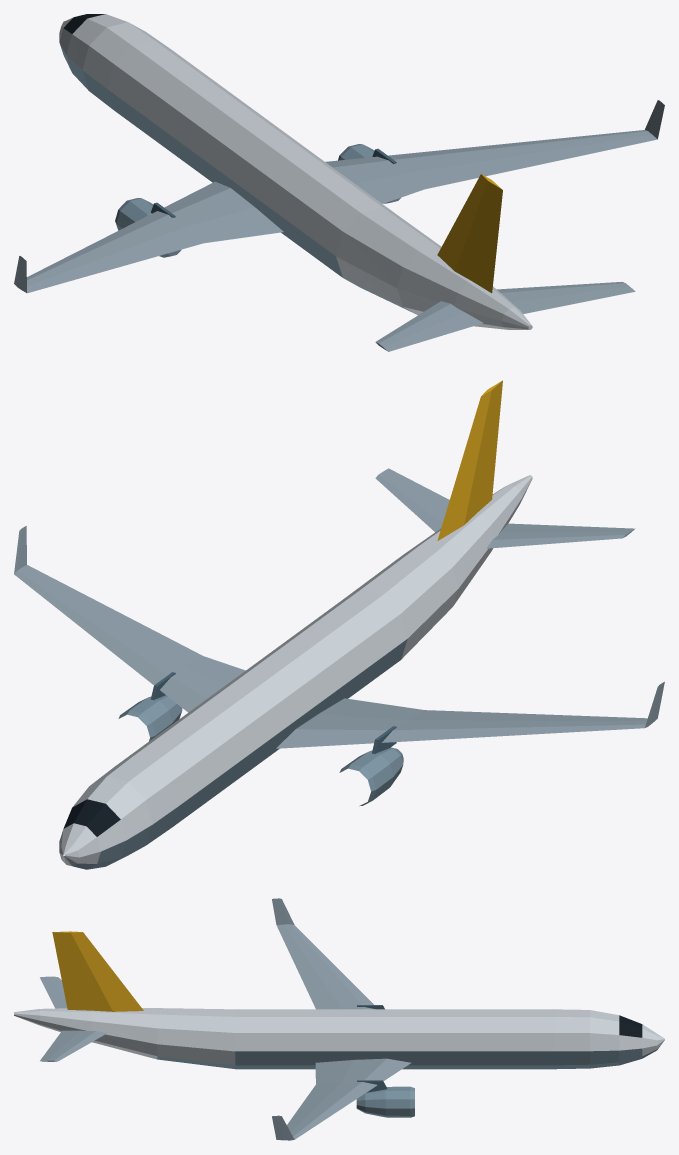
The picture shows the model from 3 angles, top to bottom: view 1: azimuth 30°, elevation 25°; view 2: azimuth 150°, elevation 25°; view 3: azimuth 270°, elevation 25°; orthographic projection. The views are drawn at different scales.
Parts seen in each view (by area): view 1: lod0; view 2: lod0; view 3: lod0.
Part boxes in pixels (x1,y1,x2,y2): lod0: (14, 14, 664, 351); lod0: (14, 380, 664, 869); lod0: (14, 898, 664, 1140).
Size of what is drawn, in the model's own units: 0.7898 by 0.2475 by 1.
